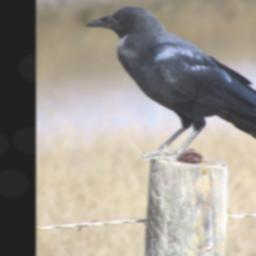Crow: (82, 3, 256, 164)
